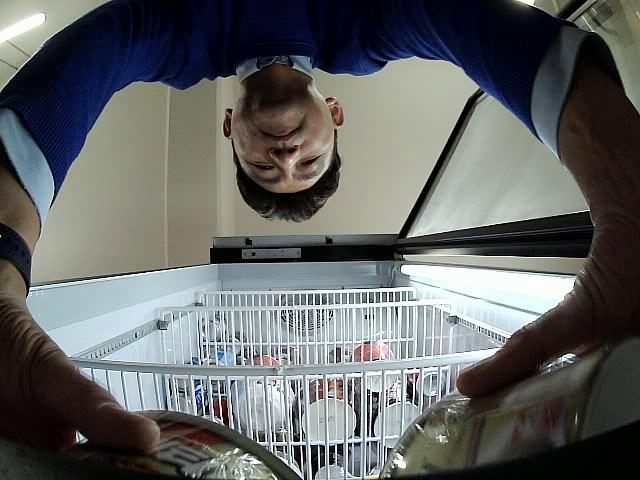00_hand: (457, 204, 640, 396), (0, 294, 160, 456)
03_chapagetti_L: (382, 336, 636, 480), (133, 411, 304, 480)
